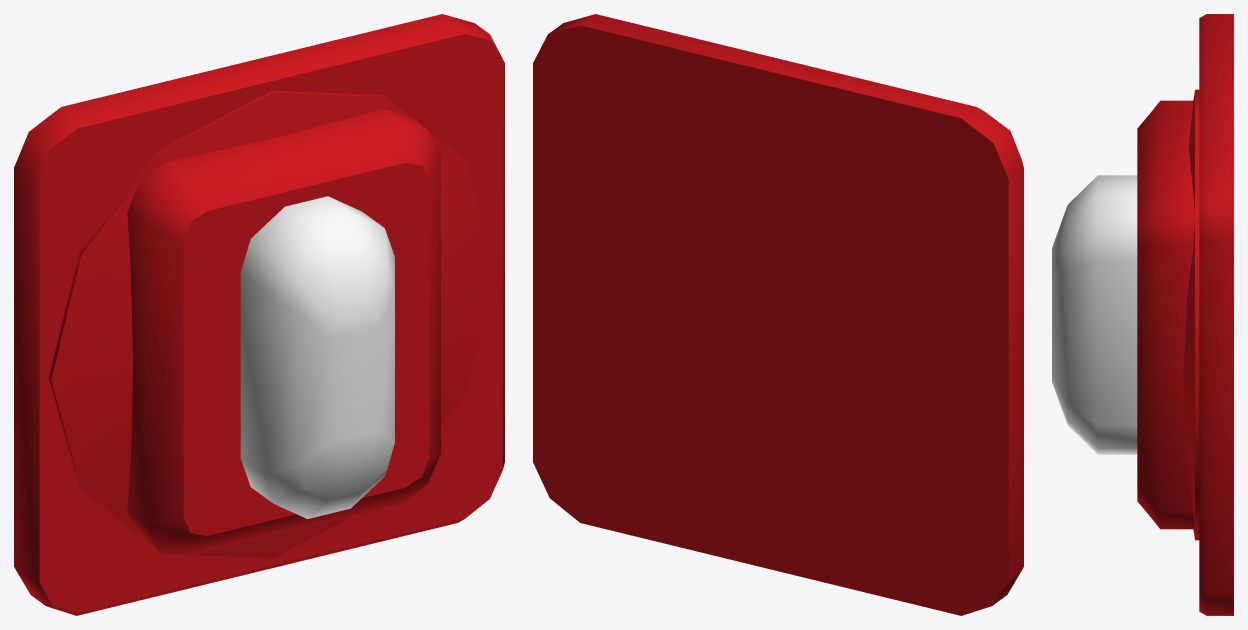
The model's file is LC_3209_FireAlarmLamp_LOD2.FBX.
The picture shows the model from 3 angles, left to right: view 1: azimuth 30°, elevation 25°; view 2: azimuth 150°, elevation 25°; view 3: azimuth 270°, elevation 25°; orthographic projection. The views are drawn at different scales.
Parts seen in each view (by area): view 1: LC_3209_FireAlarmLamp_LOD2; view 2: LC_3209_FireAlarmLamp_LOD2; view 3: LC_3209_FireAlarmLamp_LOD2.
Boxes of the visible parts, x1,y1,x2,y2 form: LC_3209_FireAlarmLamp_LOD2: (14, 14, 504, 615); LC_3209_FireAlarmLamp_LOD2: (533, 14, 1023, 615); LC_3209_FireAlarmLamp_LOD2: (1052, 14, 1233, 615).
Bounding box in the file's own units: 11.21 × 11.21 × 4.21.
1 material, 1 textured.
